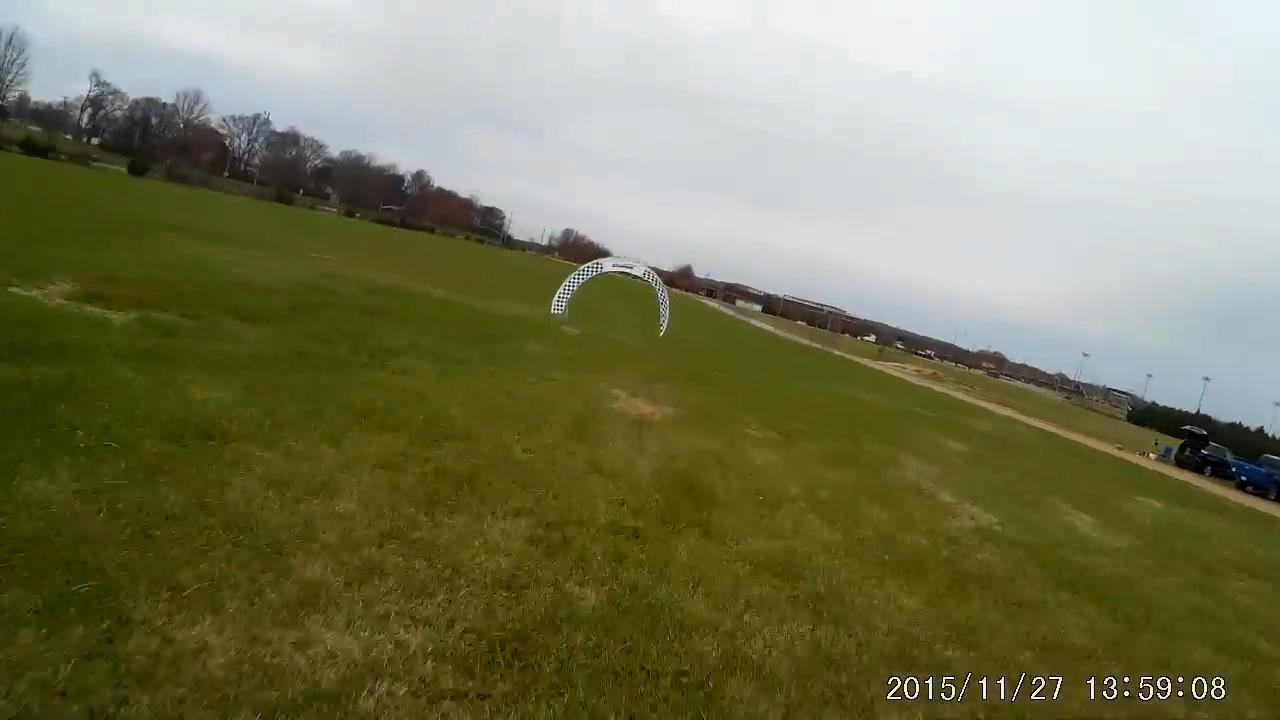gate: (550, 253, 671, 340)
